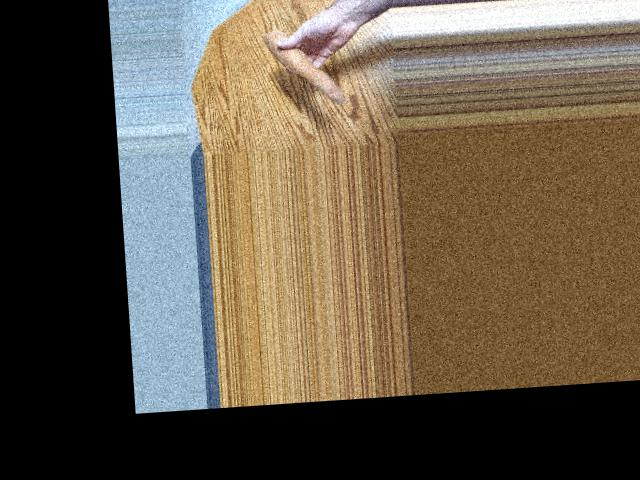sweet_potato: (266, 25, 343, 106)
